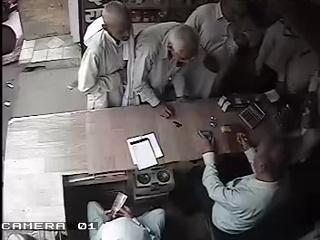Normal: (198, 130, 294, 240), (131, 22, 200, 118), (183, 0, 234, 100), (87, 196, 166, 240)
shoplifting: (76, 1, 135, 110)
